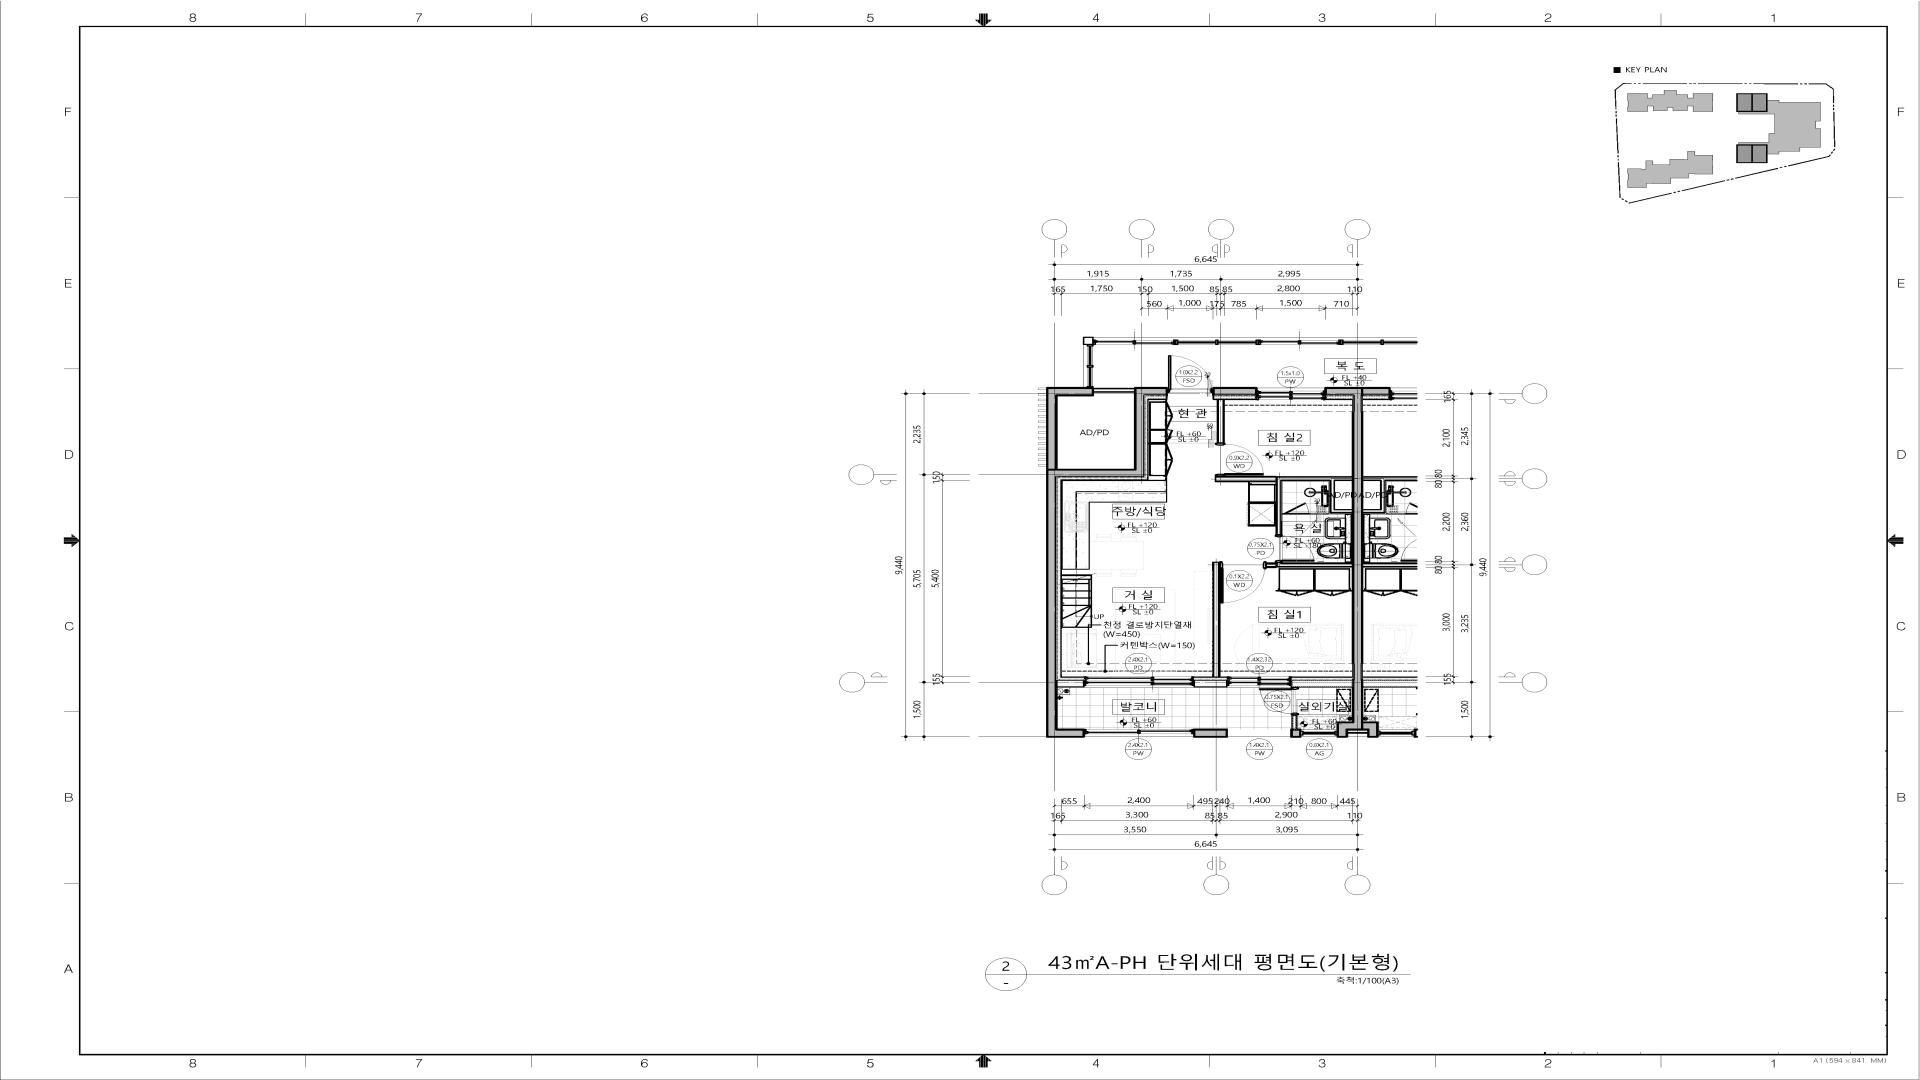door: (1220, 560, 1266, 604), (1167, 355, 1212, 393), (1215, 443, 1265, 476), (1258, 687, 1299, 715), (1275, 535, 1315, 562), (1284, 502, 1308, 514)
wall: (1046, 386, 1167, 737), (1325, 386, 1364, 737), (1215, 476, 1352, 534), (1147, 398, 1167, 481), (1212, 562, 1221, 678), (1060, 575, 1092, 607), (1266, 562, 1352, 568), (1291, 679, 1352, 687), (1212, 386, 1257, 397), (1217, 398, 1225, 443), (1193, 728, 1228, 737), (1193, 680, 1228, 687), (1058, 679, 1085, 687), (1093, 388, 1134, 393), (1291, 715, 1298, 729), (1290, 729, 1302, 737)
window: (1083, 336, 1418, 388), (1084, 676, 1193, 687), (1257, 388, 1325, 401), (1084, 729, 1193, 737), (1228, 676, 1291, 687), (1228, 729, 1290, 737), (1302, 729, 1337, 737)
